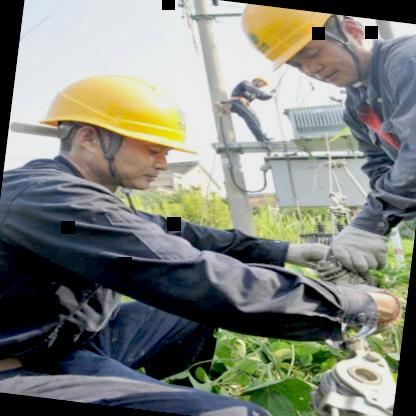helmet: (16, 50, 222, 202), (224, 2, 381, 90), (249, 74, 272, 90)
